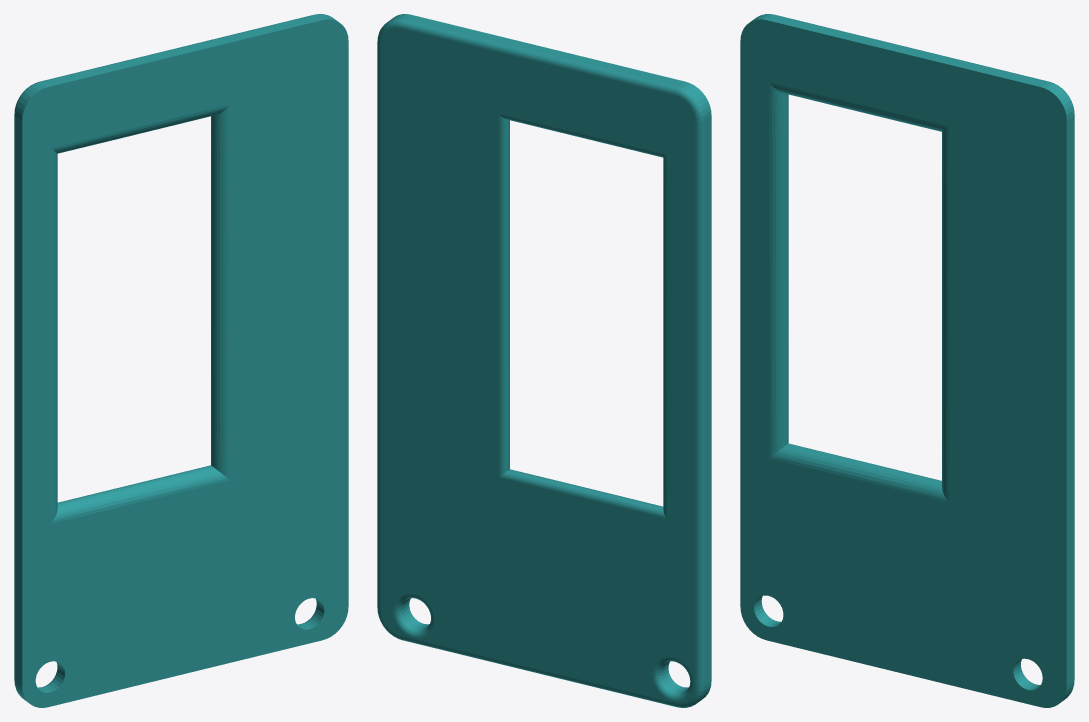
The model's file is cover-3dp-cutout.glb.
The picture shows the model from 3 angles, left to right: view 1: azimuth 30°, elevation 25°; view 2: azimuth 150°, elevation 25°; view 3: azimuth 330°, elevation 25°; orthographic projection.
Size of the model in its own units: 0.0277 by 0.0503 by 0.0015.
